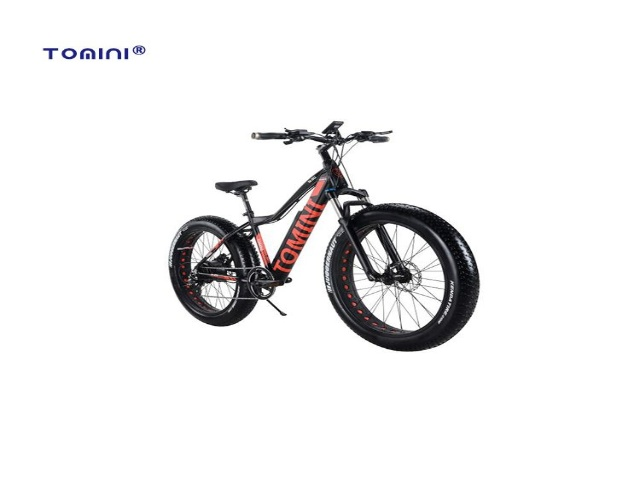bike: (156, 113, 489, 360)
